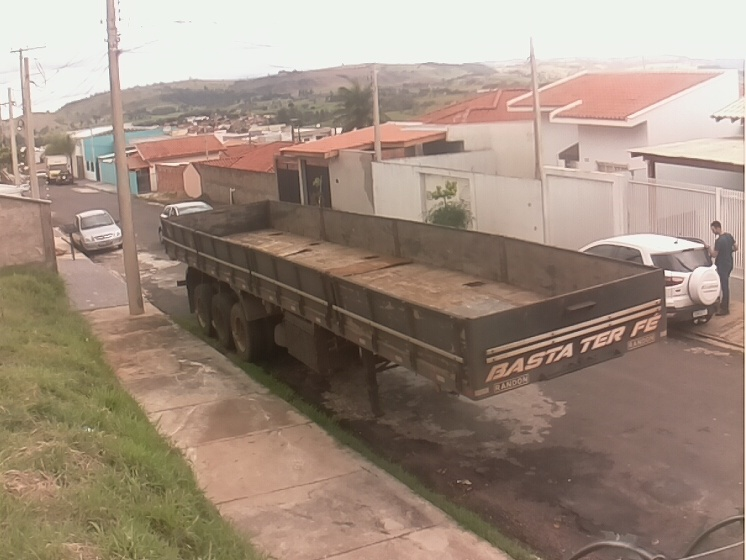person: (703, 219, 741, 317)
